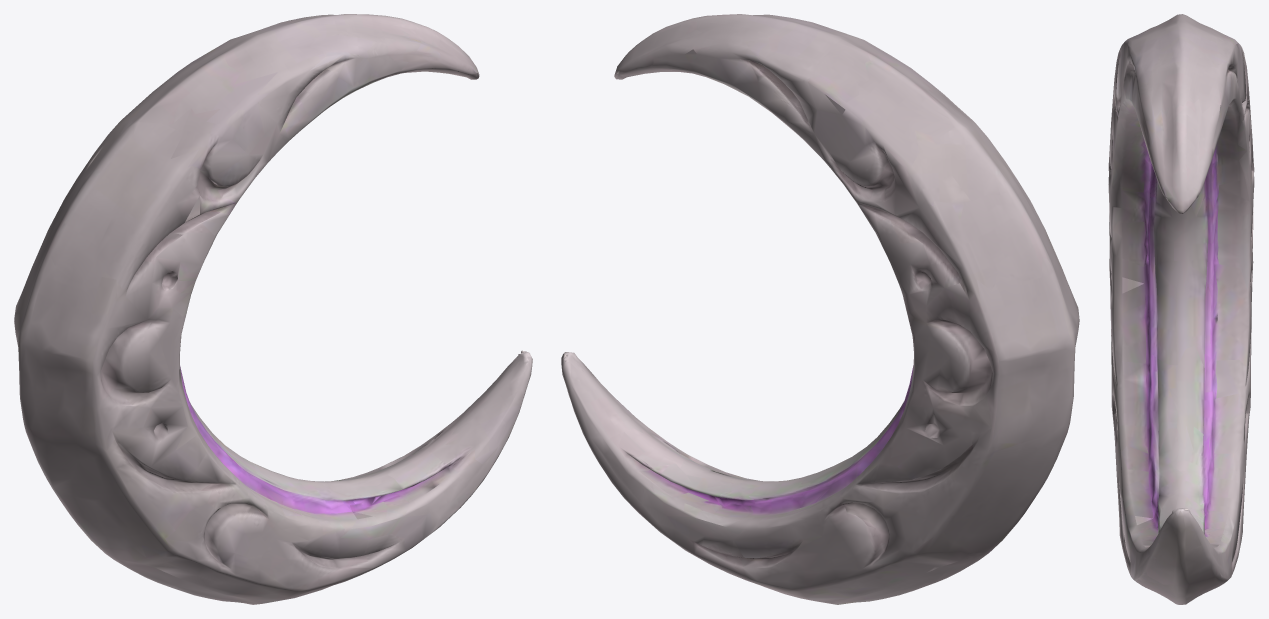
File: moon-crescent.glb
3 views of the same model, side by side, from view 1: azimuth 30°, elevation 25°; view 2: azimuth 150°, elevation 25°; view 3: azimuth 270°, elevation 25° (orthographic). The views are drawn at different scales.
Visible parts, largest first — view 1: nebeljagd-tripo-moon-crescent; view 2: nebeljagd-tripo-moon-crescent; view 3: nebeljagd-tripo-moon-crescent.
Part boxes in pixels (bbox=[...]): nebeljagd-tripo-moon-crescent: bbox=[14, 14, 532, 604]; nebeljagd-tripo-moon-crescent: bbox=[561, 14, 1079, 604]; nebeljagd-tripo-moon-crescent: bbox=[1108, 14, 1254, 604].
Bounding box in the file's own units: 1.13 × 1.2 × 0.2928.
Materials: 1 (1 with a texture image).
